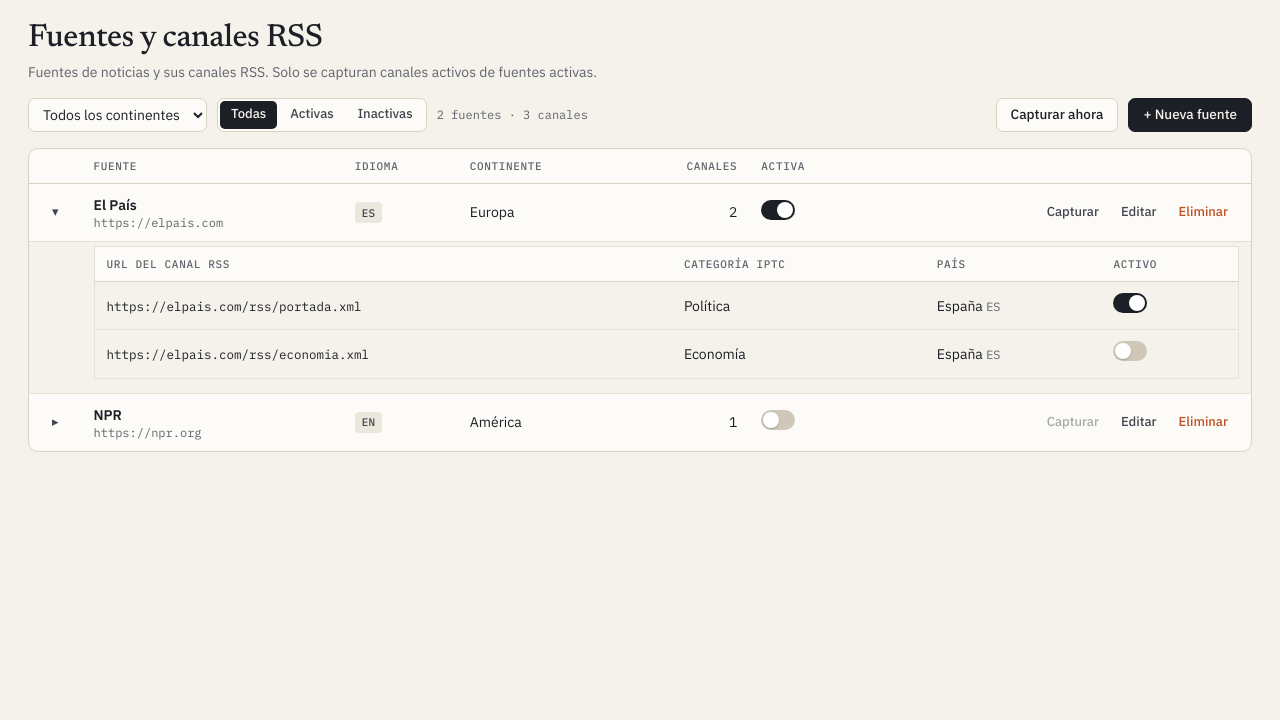
Test: SourcesPage › toggles channel switch with patchChannel and shows toast with name
What coordinates should you click on to do the following:
click the switch named "Activar El País"
I would click on:
 (778, 210)
Its box is x1=761 y1=200 x2=795 y2=220.
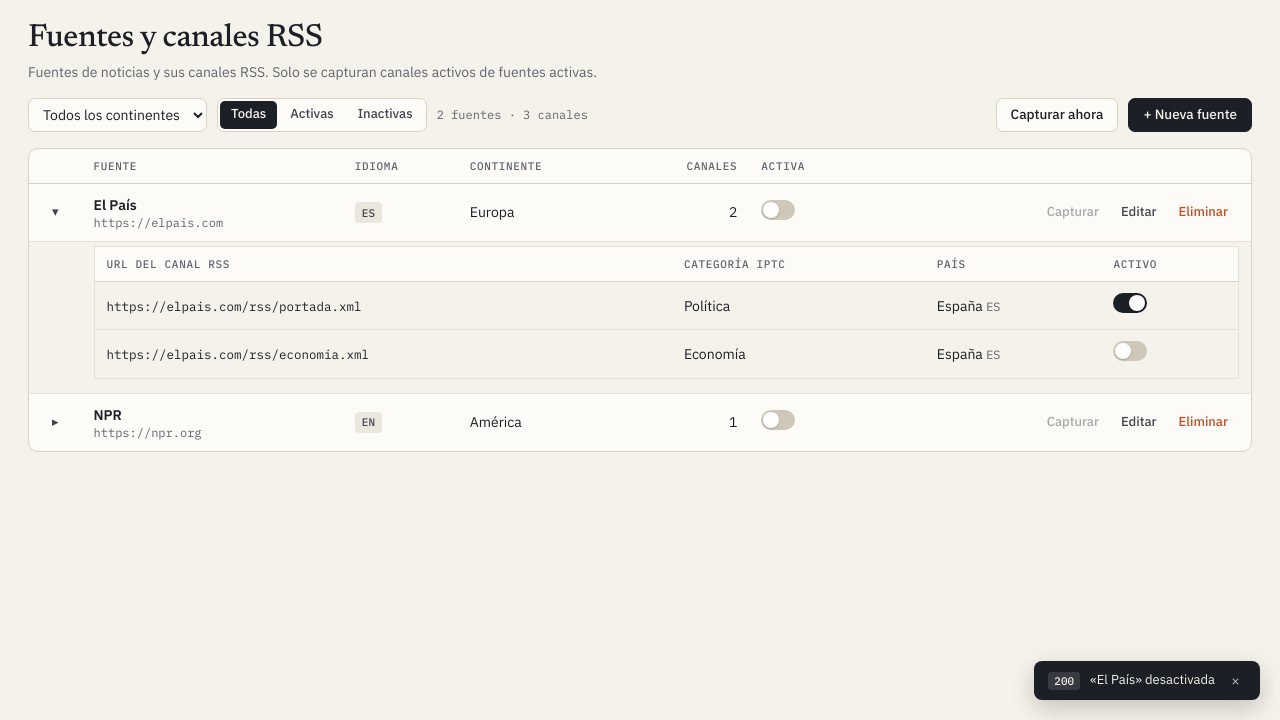
Check: the text "«El País» desactivada" is shown, box x1=1090 y1=671 x2=1215 y2=690
